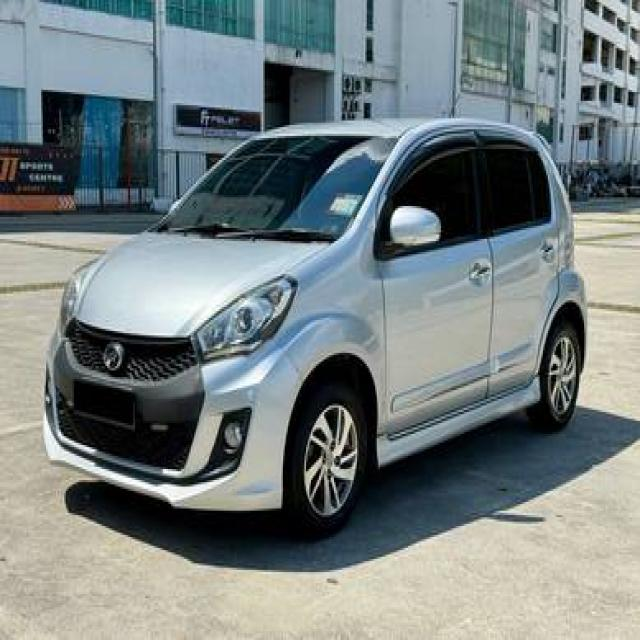PeroduaMyvi: (39, 112, 589, 537)
